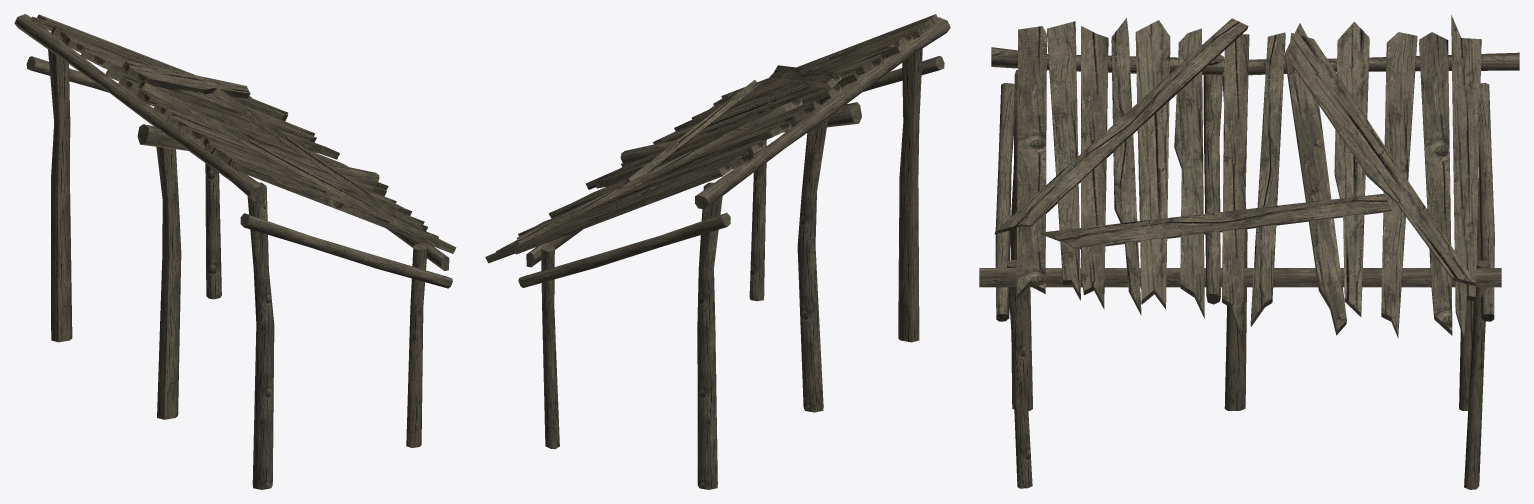
The model's file is shelter.fbx.
3 views of the same model, side by side, from view 1: azimuth 30°, elevation 25°; view 2: azimuth 150°, elevation 25°; view 3: azimuth 270°, elevation 25° (orthographic). The views are drawn at different scales.
Visible parts, largest first — view 1: shelter_LOD0; view 2: shelter_LOD0; view 3: shelter_LOD0.
Part boxes in pixels (left/top/right/bottom): shelter_LOD0: left=14, top=14, right=456, bottom=489; shelter_LOD0: left=485, top=14, right=950, bottom=489; shelter_LOD0: left=979, top=15, right=1519, bottom=489.
Size of what is drawn, in the model's own units: 3.69 by 4.52 by 5.88.
